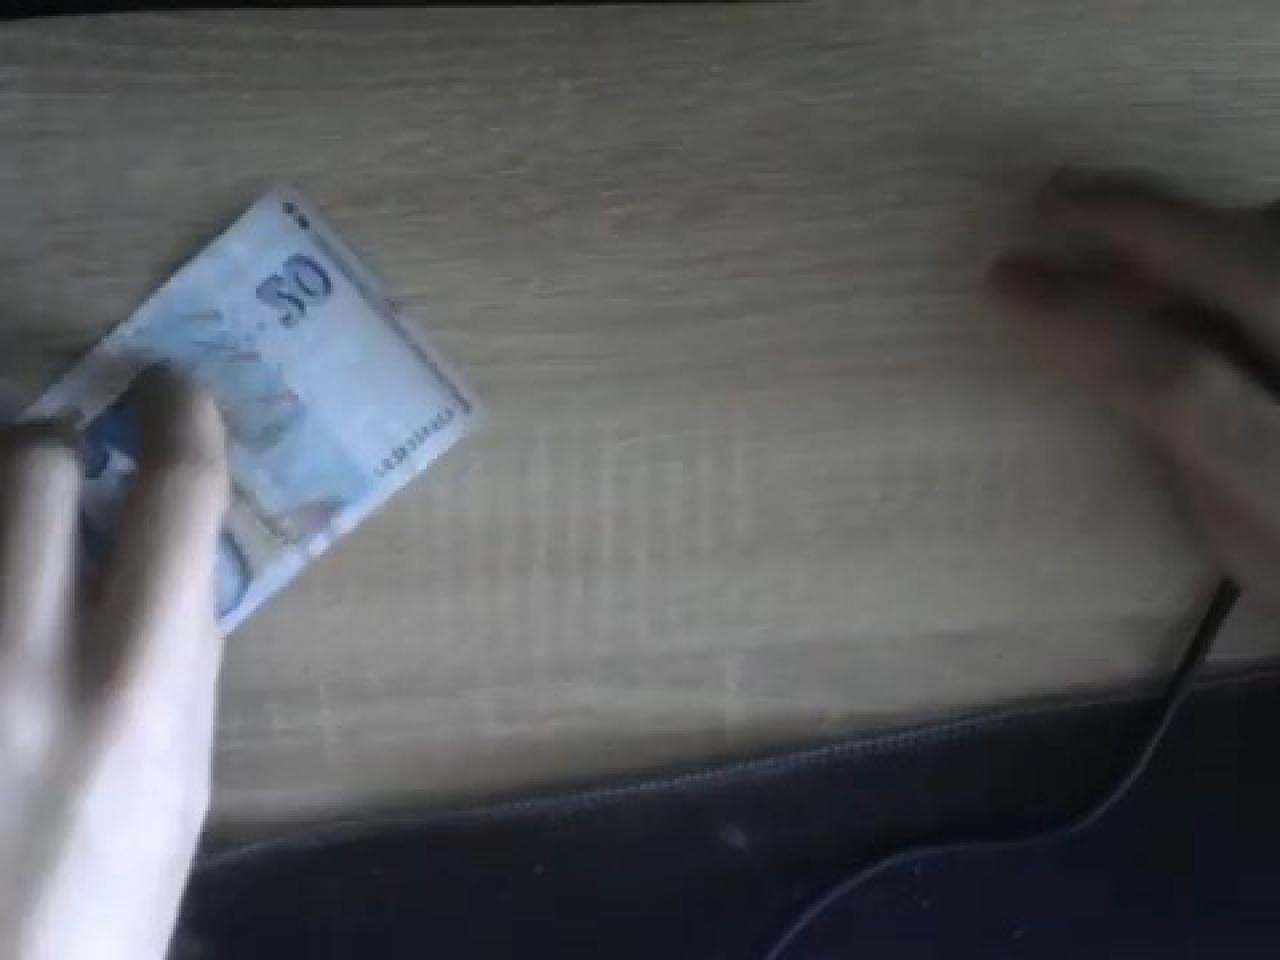20leva: (13, 184, 480, 640)
